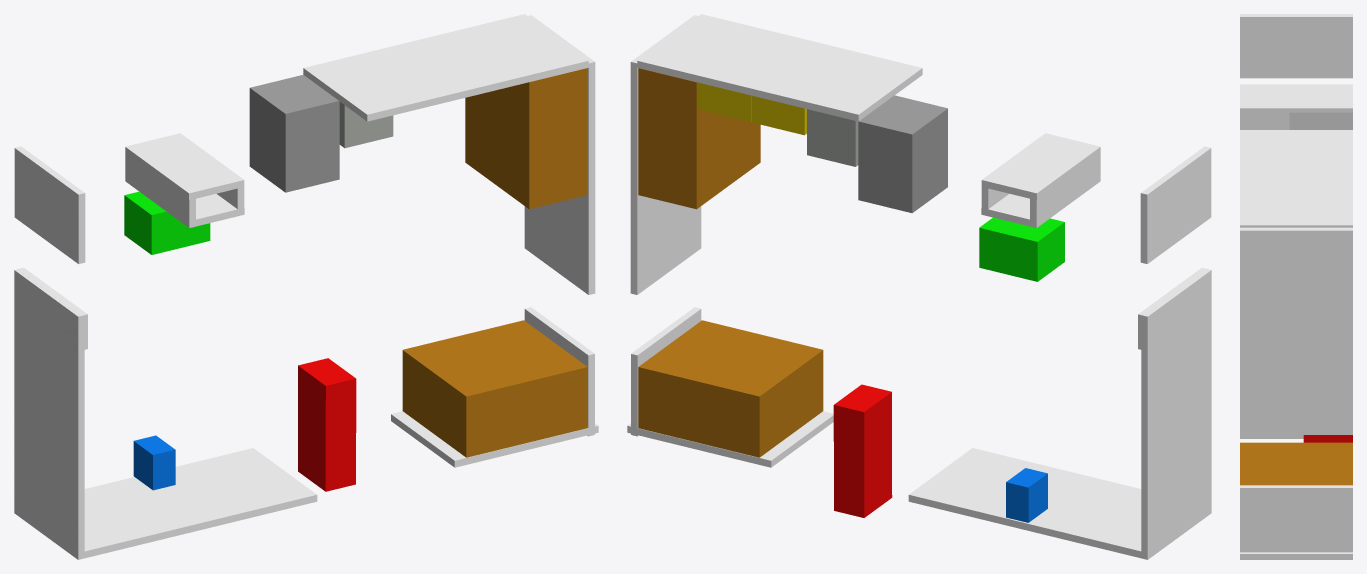
Rendered from highbay_swarm_world.dae.
The picture shows the model from 3 angles, left to right: view 1: azimuth 30°, elevation 25°; view 2: azimuth 150°, elevation 25°; view 3: azimuth 270°, elevation 25°; orthographic projection. The views are drawn at different scales.
Parts seen in each view (by area): view 1: node_14, node_10, node_8, node_2, node_15, node_16, node_18, node_7, node_11, node_0, node_19, node_5 (+6 smaller); view 2: node_14, node_10, node_8, node_2, node_15, node_16, node_18, node_7, node_11, node_19, node_0, node_17 (+8 smaller); view 3: node_7, node_8, node_6, node_11, node_14, node_0, node_4, node_16, node_5, node_18, node_2.
Boxes of the visible parts, x1,y1,x2,y2 form: node_14: (402, 320, 587, 457); node_10: (14, 269, 84, 559); node_8: (303, 14, 588, 121); node_2: (84, 448, 317, 558); node_15: (465, 68, 587, 209); node_16: (249, 74, 339, 192); node_18: (298, 358, 356, 491); node_7: (524, 15, 595, 294); node_11: (14, 146, 85, 263); node_0: (125, 133, 244, 200); node_19: (124, 191, 210, 254); node_5: (391, 411, 598, 467); node_14: (638, 320, 823, 457); node_10: (1141, 269, 1211, 559); node_8: (637, 14, 922, 121); node_2: (908, 448, 1141, 558); node_15: (638, 68, 760, 209); node_16: (858, 95, 947, 213); node_18: (833, 384, 892, 517); node_7: (630, 15, 701, 294); node_11: (1140, 146, 1211, 263); node_19: (979, 217, 1064, 281); node_0: (981, 133, 1100, 200); node_17: (807, 109, 858, 166); node_7: (1240, 227, 1352, 434); node_8: (1240, 130, 1352, 227); node_6: (1240, 485, 1352, 552); node_11: (1240, 14, 1352, 78); node_14: (1240, 442, 1352, 485); node_0: (1240, 84, 1352, 107); node_4: (1240, 108, 1352, 129); node_16: (1289, 112, 1352, 129); node_5: (1240, 552, 1352, 559); node_18: (1303, 435, 1352, 442); node_2: (1240, 435, 1303, 438).
Bounding box in the file's own units: 11.76 × 8.68 × 2.5.
